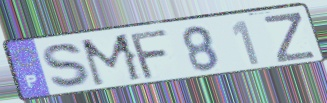1: (231, 19, 261, 66)
8: (181, 24, 220, 73)
F: (129, 27, 173, 82)
M: (78, 32, 145, 89)
S: (40, 42, 97, 91)
Z: (261, 11, 318, 65)
